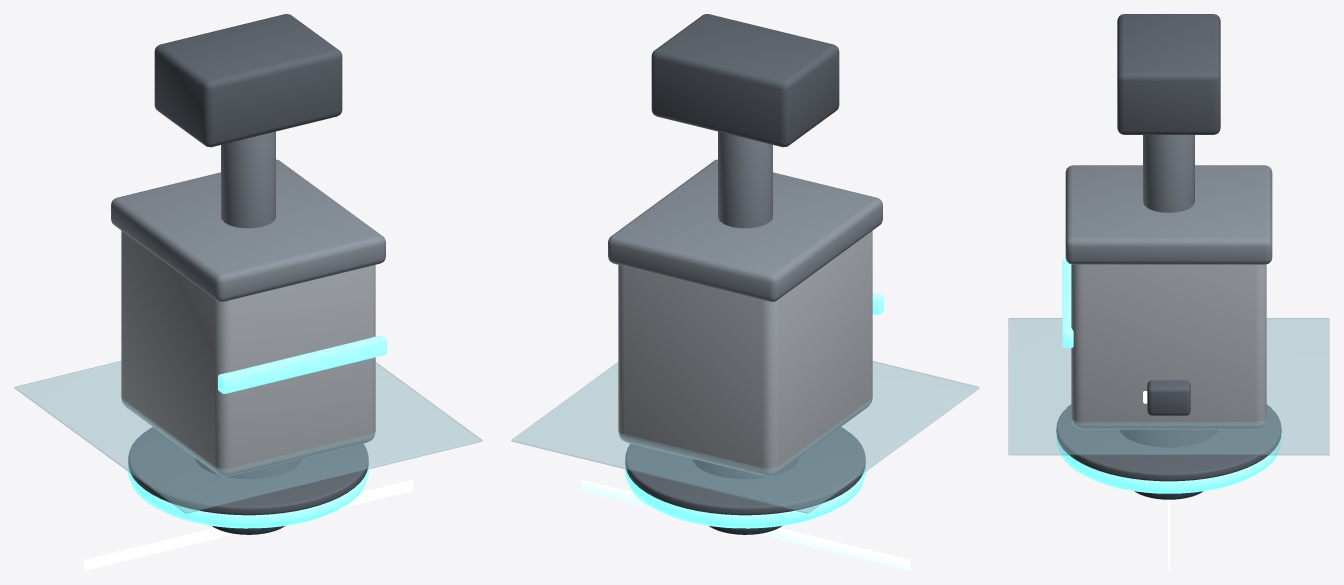
File: scanner_v01.glb
3 views of the same model, side by side, from view 1: azimuth 30°, elevation 25°; view 2: azimuth 150°, elevation 25°; view 3: azimuth 270°, elevation 25° (orthographic). The views are drawn at different scales.
Visible parts, largest first — view 1: scanner_head, scan_window, scanner_head_cap, scanner_mount, ring_light_backing, scanner_mast, scanner_head_glow, ring_light, laser_plane, scanner_lens; view 2: scanner_head, scan_window, scanner_head_cap, scanner_mount, ring_light_backing, scanner_mast, ring_light, laser_plane, scanner_lens; view 3: scanner_head, scan_window, scanner_head_cap, scanner_mount, ring_light_backing, scanner_mast, ring_light, laser_emitter, scanner_lens, scanner_head_glow.
Boxes of the visible parts, x1,y1,x2,y2 form: scanner_head: [121, 231, 375, 476]; scan_window: [14, 361, 482, 513]; scanner_head_cap: [111, 159, 385, 301]; scanner_mount: [154, 14, 342, 147]; ring_light_backing: [128, 427, 368, 515]; scanner_mast: [221, 131, 275, 228]; scanner_head_glow: [218, 335, 386, 393]; ring_light: [127, 465, 369, 528]; laser_plane: [83, 479, 413, 570]; scanner_lens: [195, 458, 301, 529]; scanner_head: [618, 231, 872, 476]; scan_window: [511, 361, 979, 513]; scanner_head_cap: [608, 159, 882, 301]; scanner_mount: [651, 14, 839, 147]; ring_light_backing: [625, 427, 865, 515]; scanner_mast: [718, 131, 772, 228]; ring_light: [624, 465, 866, 528]; laser_plane: [580, 479, 910, 570]; scanner_lens: [692, 458, 798, 529]; scanner_head: [1071, 264, 1266, 429]; scan_window: [1008, 318, 1329, 455]; scanner_head_cap: [1065, 165, 1272, 264]; scanner_mount: [1117, 14, 1220, 134]; ring_light_backing: [1056, 404, 1281, 481]; scanner_mast: [1143, 135, 1194, 212]; ring_light: [1056, 434, 1281, 493]; laser_emitter: [1147, 380, 1190, 415]; scanner_lens: [1119, 429, 1218, 494]; scanner_head_glow: [1062, 258, 1073, 347].
Bounding box in the file's own units: 0.62 × 0.87 × 0.56.
